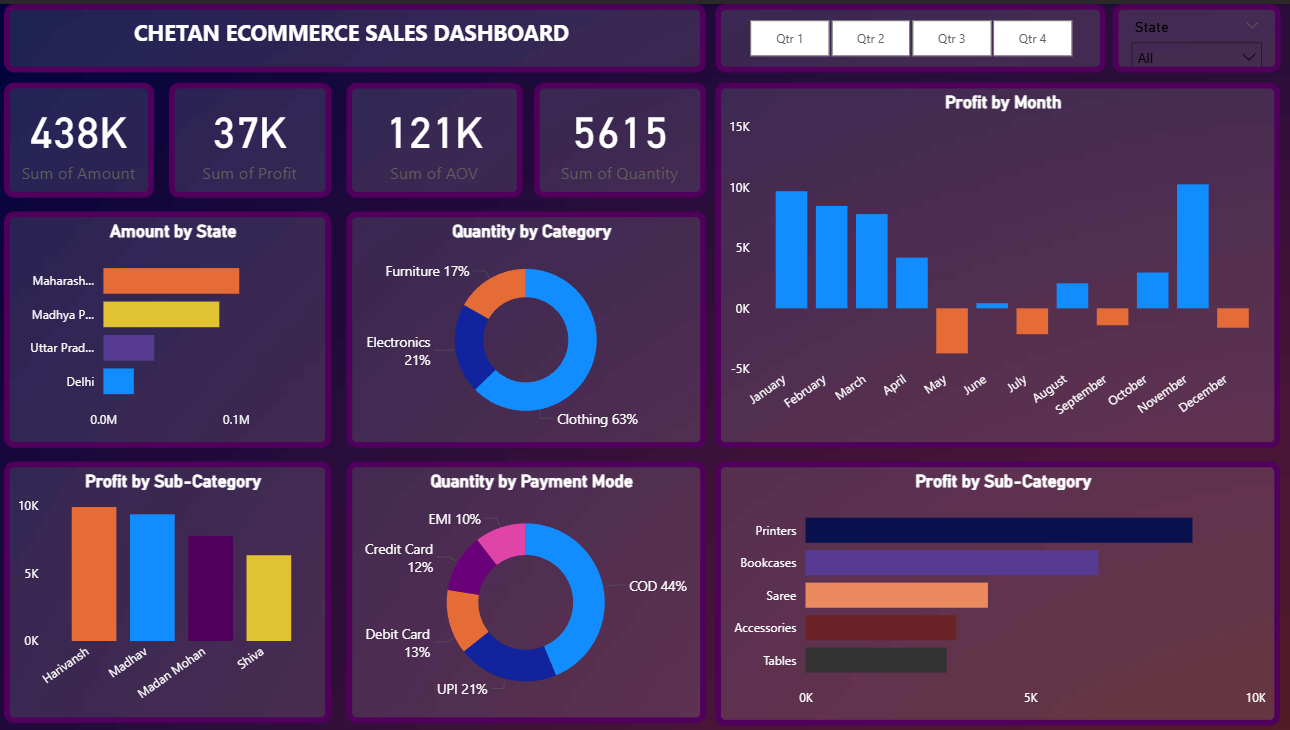

The page's visual inventory and layout, read from the dashboard file:
{"tool":"powerbi","page":{"name":"Page 1","canvas":[1280,720],"ordinal":0},"visuals":[{"type":"textbox","box":[9.6,0,688.9,67.2],"z":0},{"type":"clusteredColumnChart","title":" Profit by Month","fields":{"Category":["Orders.Order Date.Variation.Date Hierarchy.Month"],"Y":["Sum(Details.Profit)"]},"box":[708.1,76.8,554.4,358.1],"z":1000},{"type":"clusteredBarChart","title":"Profit by Sub-Category","fields":{"Category":["Details.Sub-Category"],"Y":["Sum(Details.Profit)"]},"box":[708.1,448.7,554.4,259.3],"z":2000},{"type":"donutChart","title":" Quantity by Category","fields":{"Category":["Details.Category"],"Y":["Sum(Details.Quantity)"]},"box":[345.8,203.1,352.7,231.9],"z":3000},{"type":"donutChart","title":"Quantity by Payment Mode","fields":{"Category":["Details.PaymentMode"],"Y":["Sum(Details.Quantity)"]},"box":[345.8,448.7,352.7,256.6],"z":4000},{"type":"card","fields":{"Values":["Sum(Details.Amount)"]},"box":[9.6,76.8,146.8,112.5],"z":5000},{"type":"card","fields":{"Values":["Sum(Details.Profit)"]},"box":[171.5,76.8,159.2,112.5],"z":6000},{"type":"card","fields":{"Values":["Sum(Details.Quantity)"]},"box":[529.7,76.8,168.8,112.5],"z":7000},{"type":"card","fields":{"Values":["Sum(Details.AOV)"]},"box":[345.8,76.8,172.9,112.5],"z":8000},{"type":"clusteredBarChart","title":"Amount by State","fields":{"Category":["Orders.State"],"Y":["Sum(Details.Amount)"]},"box":[9.6,203.1,321.1,231.9],"z":9000},{"type":"clusteredColumnChart","title":"Profit by Sub-Category","fields":{"Category":["Orders.CustomerName"],"Y":["Sum(Details.Amount)"]},"box":[9.6,448.7,321.1,256.6],"z":10000},{"type":"slicer","fields":{"Values":["Orders.Order Date.Variation.Date Hierarchy.Quarter"]},"box":[708.1,0,382.8,67.2],"z":11000},{"type":"slicer","fields":{"Values":["Orders.State"]},"box":[1097.8,0,164.7,67.2],"z":12000}]}

Visuals, with their boxes in screenshot pixels (x1, y1, x2, y2), scaled from the page's 1280x720 canvas onto the 1290x730 screenshot:
textbox: 10:0:704:68
" Profit by Month" clusteredColumnChart: 714:78:1272:441
"Profit by Sub-Category" clusteredBarChart: 714:455:1272:718
" Quantity by Category" donutChart: 349:206:704:441
"Quantity by Payment Mode" donutChart: 349:455:704:715
card - Sum(Details.Amount): 10:78:158:192
card - Sum(Details.Profit): 173:78:333:192
card - Sum(Details.Quantity): 534:78:704:192
card - Sum(Details.AOV): 349:78:523:192
"Amount by State" clusteredBarChart: 10:206:333:441
"Profit by Sub-Category" clusteredColumnChart: 10:455:333:715
slicer - Orders.Order Date.Variation.Date Hierarchy.Quarter: 714:0:1099:68
slicer - Orders.State: 1106:0:1272:68
